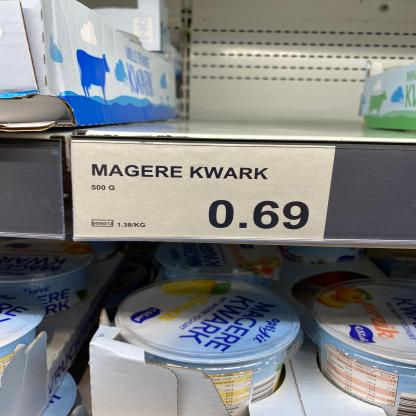prtg: (71, 142, 336, 242)
